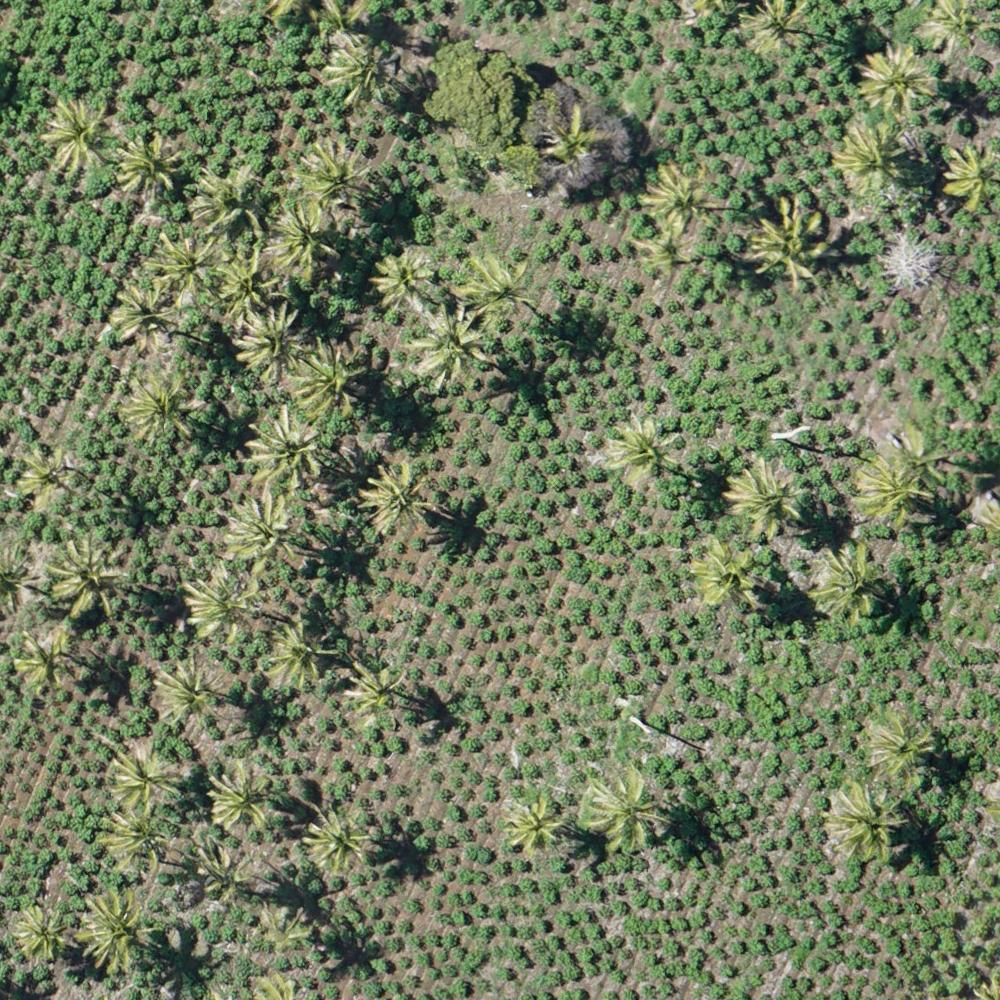Palm: (750, 198, 835, 289), (406, 308, 491, 391), (47, 540, 130, 619), (823, 782, 906, 859), (291, 338, 368, 419), (99, 740, 181, 816), (245, 411, 323, 490), (591, 769, 668, 849), (78, 892, 155, 972), (643, 162, 724, 238), (601, 408, 679, 486), (147, 229, 226, 304), (858, 45, 938, 118), (721, 460, 800, 533), (238, 305, 311, 383), (42, 100, 115, 177), (457, 254, 536, 323), (267, 207, 338, 282), (126, 377, 203, 446), (819, 542, 888, 617), (183, 571, 254, 643), (206, 764, 276, 835), (852, 458, 926, 524), (833, 123, 906, 189), (692, 536, 759, 607), (295, 142, 365, 209), (223, 498, 290, 568), (154, 660, 219, 730), (189, 165, 253, 235), (211, 250, 274, 321), (304, 805, 371, 871), (107, 284, 176, 348), (362, 464, 426, 531), (328, 45, 396, 108), (942, 144, 1000, 217), (9, 633, 76, 696), (865, 714, 932, 776), (271, 619, 331, 688), (117, 135, 179, 201), (340, 662, 405, 722), (370, 250, 436, 308), (928, 1, 996, 57), (97, 814, 164, 868), (20, 446, 75, 510), (743, 2, 809, 55), (195, 843, 251, 905), (500, 797, 565, 847), (15, 910, 73, 965)
